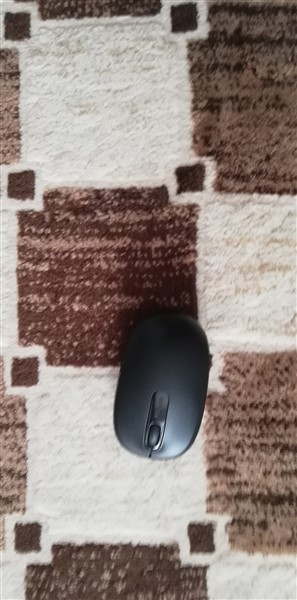mouse: (111, 307, 218, 463)
